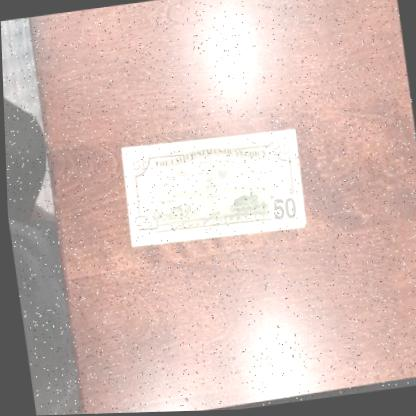fifty-back: (114, 123, 308, 256)
